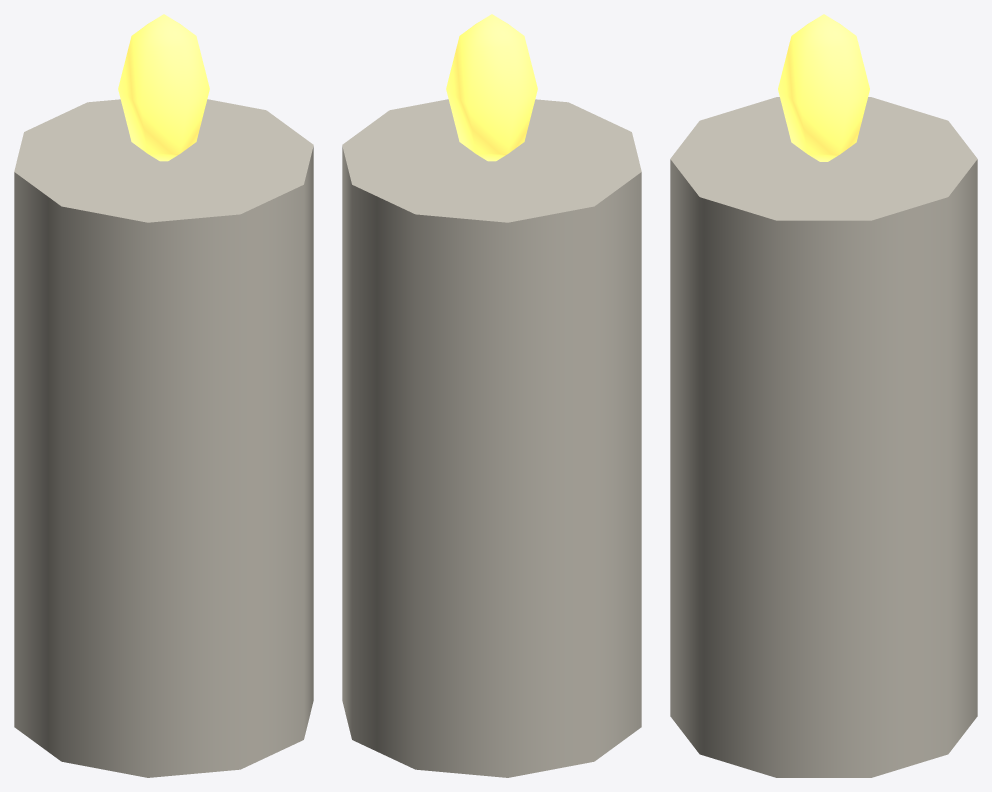
The model's file is candle_pillar.glb.
3 views of the same model, side by side, from view 1: azimuth 30°, elevation 25°; view 2: azimuth 150°, elevation 25°; view 3: azimuth 270°, elevation 25° (orthographic).
Parts seen in each view (by area): view 1: candle_pillar; view 2: candle_pillar; view 3: candle_pillar.
Boxes of the visible parts, <box> form: candle_pillar: <box>14,14,313,777</box>; candle_pillar: <box>342,14,641,777</box>; candle_pillar: <box>670,14,977,777</box>.
Size of the model in its own units: 0.0761 by 0.2016 by 0.08.
